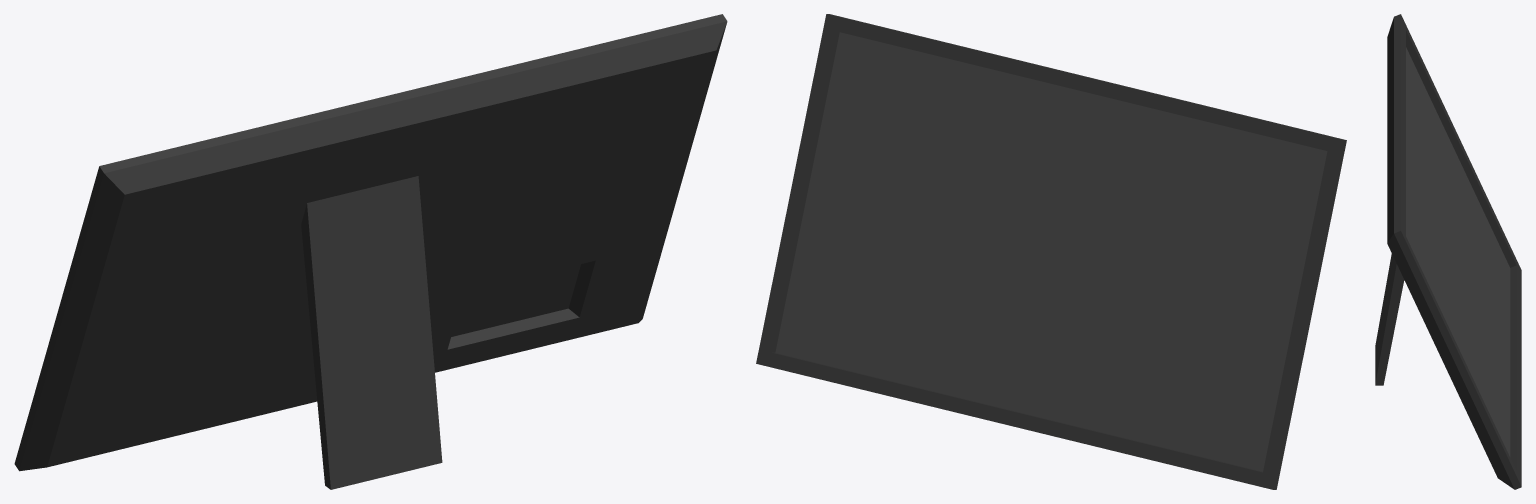
Rendered from Drawer.fbx.
The picture shows the model from 3 angles, left to right: view 1: azimuth 30°, elevation 25°; view 2: azimuth 150°, elevation 25°; view 3: azimuth 270°, elevation 25°; orthographic projection. The views are drawn at different scales.
Parts seen in each view (by area): view 1: Drawer; view 2: Drawer; view 3: Drawer.
Boxes of the visible parts, box(x1,y1,x2,y2) form: Drawer: box(14, 14, 727, 489); Drawer: box(756, 14, 1346, 489); Drawer: box(1375, 14, 1521, 489).
Bounding box in the file's own units: 35 × 19.51 × 10.01.
